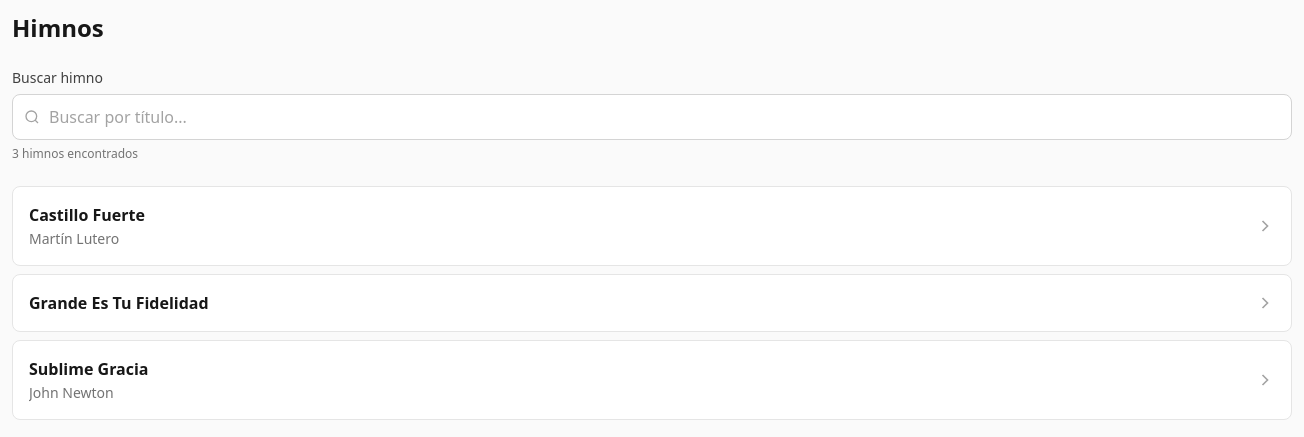
Scenario: HymnListPage › filtra himnos por título parcial
Expected: the heading "Sublime Gracia" is shown, [29, 358, 148, 380]
In the search field: (652, 117) [12, 94, 1292, 140], type "gracia"
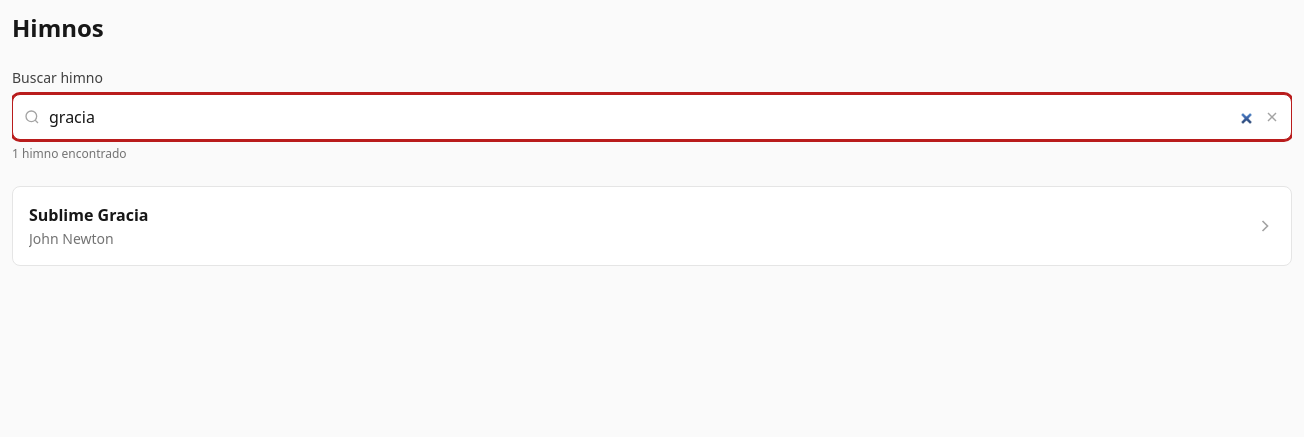
Expected: the heading "Sublime Gracia" is shown, [29, 204, 148, 226]
Now the link "Castillo Fuerte" is gone
Now the link "Grande Es Tu Fidelidad" is gone
